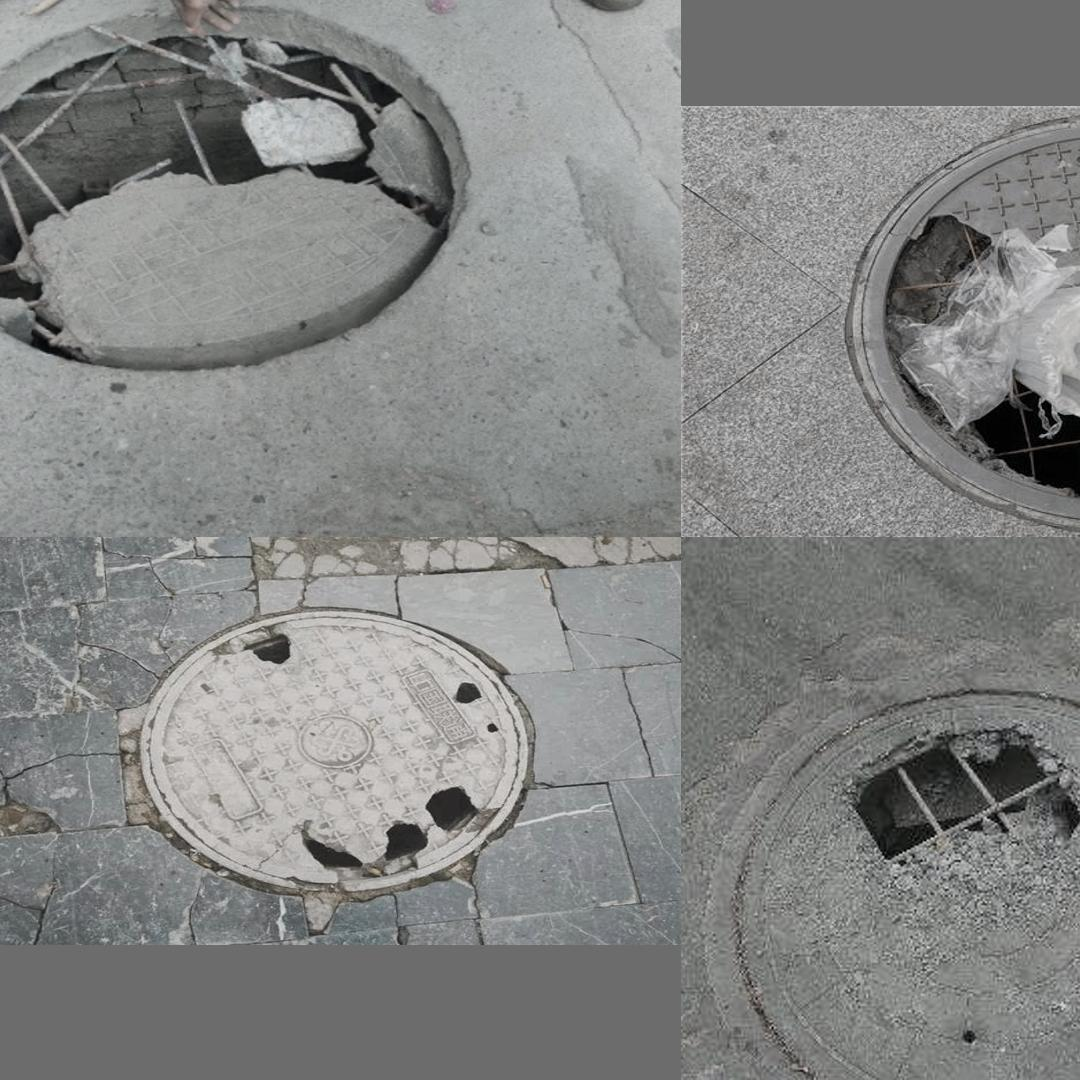broke: (0, 9, 463, 370), (713, 689, 1080, 1080), (139, 610, 529, 893), (833, 113, 1080, 523)
